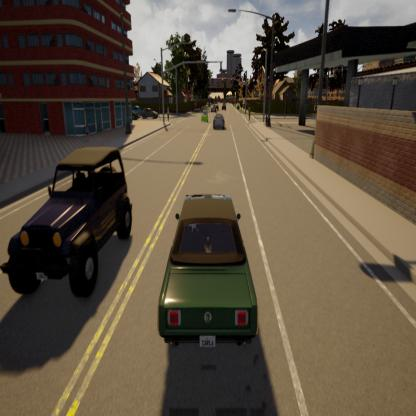Cars: (0, 151, 134, 306), (157, 191, 258, 350), (142, 105, 160, 120), (213, 112, 224, 131), (200, 111, 210, 123)
Pedestrian: (84, 120, 89, 141), (247, 105, 252, 125), (166, 105, 170, 124)
